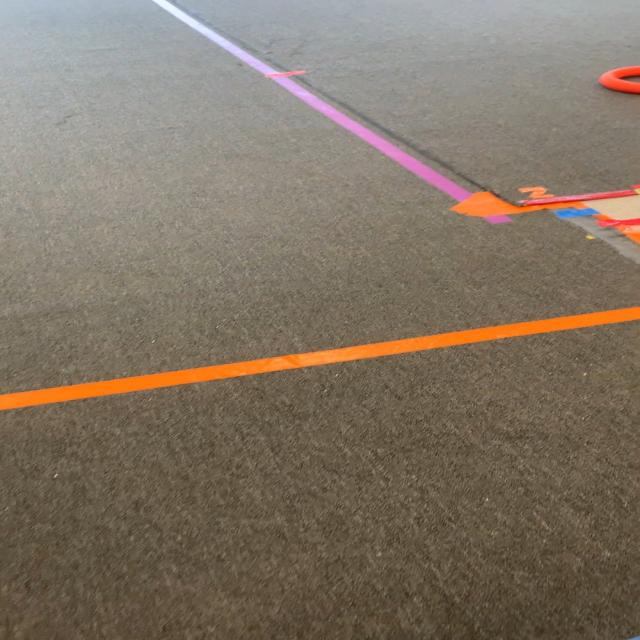notes: (598, 66, 640, 94)
